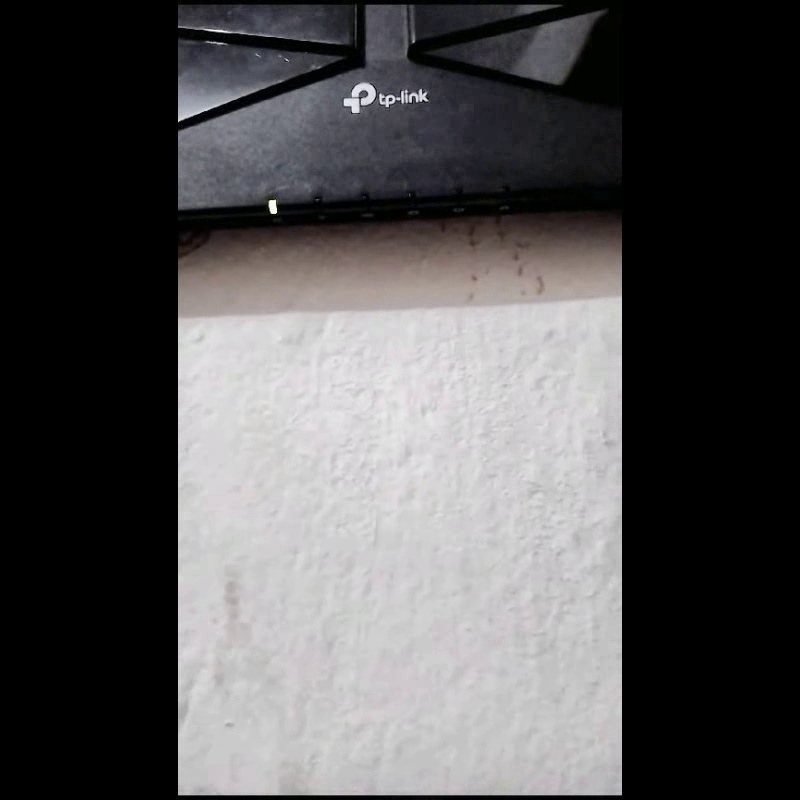off: (452, 185, 463, 204), (311, 194, 322, 212), (500, 184, 510, 203), (406, 188, 416, 206), (359, 191, 369, 208)
on_green: (267, 198, 277, 216)
